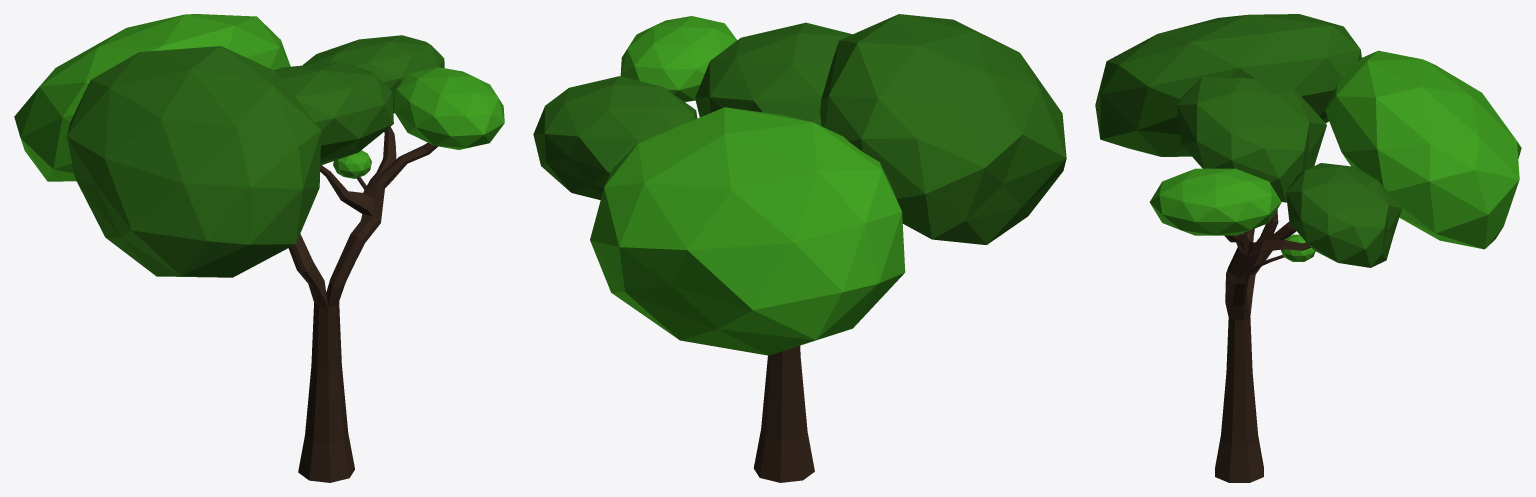
The model's file is arvore05 (1).fbx.
3 views of the same model, side by side, from view 1: azimuth 30°, elevation 25°; view 2: azimuth 150°, elevation 25°; view 3: azimuth 270°, elevation 25° (orthographic). The views are drawn at different scales.
Visible parts, largest first — view 1: folha.005, folha.004, tronco, folha.002, folha, folha.001, folha.003; view 2: folha.004, folha.005, folha.001, folha.002, folha, tronco; view 3: folha.004, folha.005, folha.002, tronco, folha.001, folha, folha.003.
Boxes of the visible parts, x1=… form: folha.005: x1=66, y1=46, x2=321, y2=277; folha.004: x1=14, y1=14, x2=290, y2=181; tronco: x1=288, y1=127, x2=437, y2=482; folha.002: x1=274, y1=62, x2=393, y2=165; folha: x1=392, y1=67, x2=504, y2=149; folha.001: x1=302, y1=35, x2=444, y2=113; folha.003: x1=333, y1=150, x2=371, y2=178; folha.004: x1=590, y1=107, x2=905, y2=355; folha.005: x1=820, y1=14, x2=1066, y2=244; folha.001: x1=533, y1=76, x2=697, y2=199; folha.002: x1=695, y1=22, x2=852, y2=125; folha: x1=620, y1=16, x2=737, y2=102; tronco: x1=753, y1=345, x2=814, y2=482; folha.004: x1=1325, y1=50, x2=1521, y2=249; folha.005: x1=1095, y1=14, x2=1361, y2=156; folha.002: x1=1177, y1=77, x2=1326, y2=202; tronco: x1=1215, y1=209, x2=1310, y2=482; folha.001: x1=1286, y1=163, x2=1401, y2=267; folha: x1=1149, y1=168, x2=1281, y2=235; folha.003: x1=1281, y1=234, x2=1315, y2=261.
Size of the model in its own units: 3185 by 3335 by 3216.
